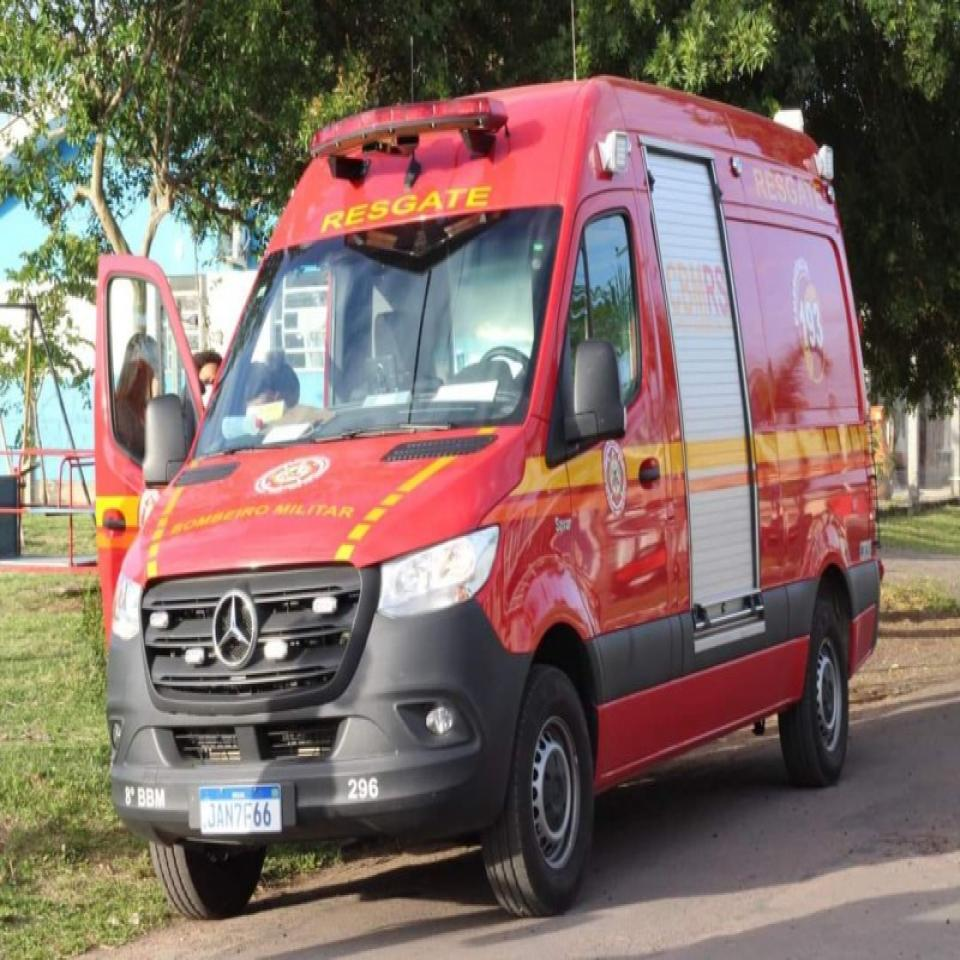viatura: (96, 77, 884, 919)
